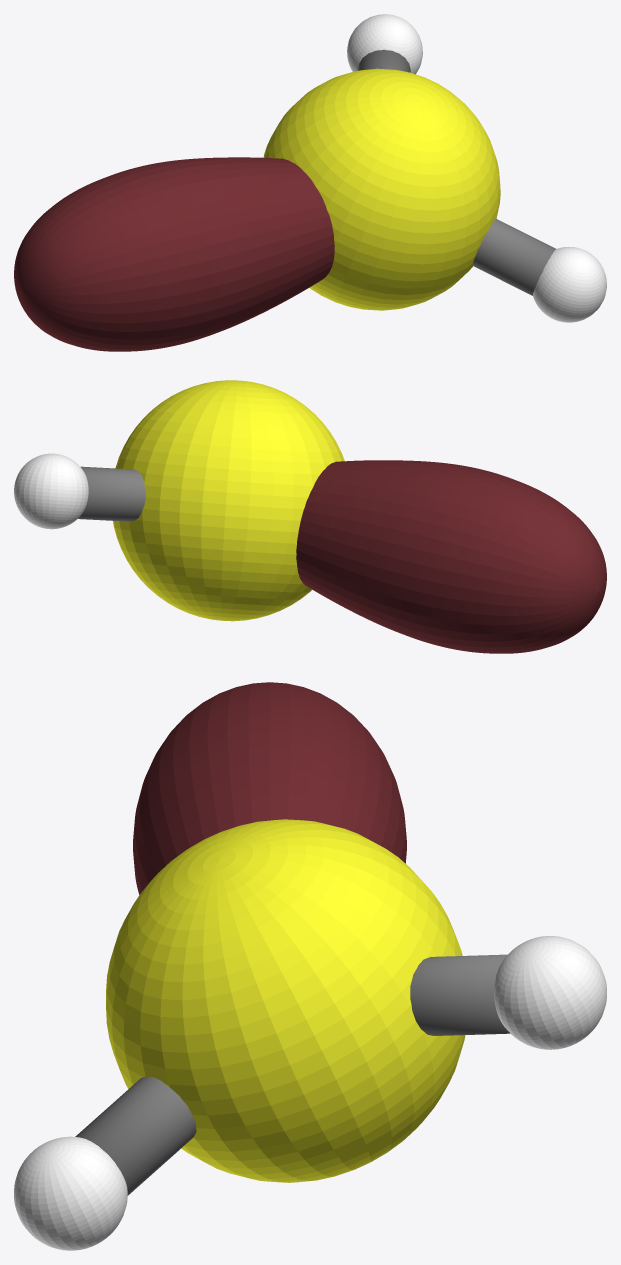
Rendered from SULFURO DE HIDROGENO.obj.
3 renders of one model, top to bottom at view 1: azimuth 30°, elevation 25°; view 2: azimuth 150°, elevation 25°; view 3: azimuth 270°, elevation 25°, orthographic. The views are drawn at different scales.
Parts seen in each view (by area): view 1: sp3Np, Sulfur_ball_Sphere.001, Hydrogen_ball_Sphere, Stick_Cylinder_Cylinder, Stick_Cylinder.001_Cylinder.001; view 2: sp3Np, Sulfur_ball_Sphere.001, Hydrogen_ball_Sphere, Stick_Cylinder.001_Cylinder.001; view 3: Sulfur_ball_Sphere.001, sp3Np, Hydrogen_ball_Sphere, Stick_Cylinder_Cylinder, Stick_Cylinder.001_Cylinder.001.
Part boxes in pixels (<box>): sp3Np: <box>14,157,334,351</box>; Sulfur_ball_Sphere.001: <box>263,68,500,310</box>; Hydrogen_ball_Sphere: <box>347,14,606,322</box>; Stick_Cylinder_Cylinder: <box>472,219,555,295</box>; Stick_Cylinder.001_Cylinder.001: <box>358,49,410,72</box>; sp3Np: <box>296,460,606,653</box>; Sulfur_ball_Sphere.001: <box>113,380,344,621</box>; Hydrogen_ball_Sphere: <box>14,453,88,529</box>; Stick_Cylinder.001_Cylinder.001: <box>78,466,145,521</box>; Sulfur_ball_Sphere.001: <box>106,819,465,1182</box>; sp3Np: <box>133,682,406,894</box>; Hydrogen_ball_Sphere: <box>14,936,606,1250</box>; Stick_Cylinder_Cylinder: <box>75,1076,196,1195</box>; Stick_Cylinder.001_Cylinder.001: <box>410,954,510,1035</box>.
Size of the model in its own units: 4.5 by 1.84 by 2.99.
